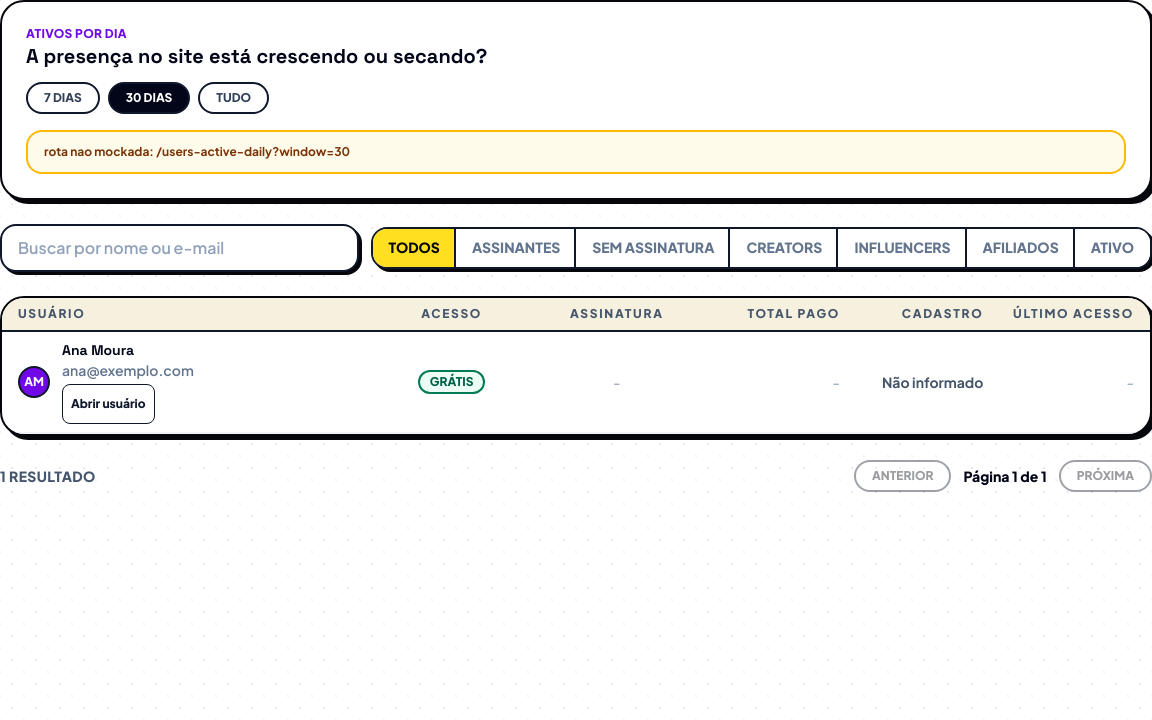
Scenario: UsersDashboard: modal de detalhe › Esc fecha o modal
This screenshot has width=1152, height=720.
Expected: the text "Ana Moura" is shown, [62,341,134,359]
Click the button "Abrir usuário" at (108, 404), box [62,384,154,424]
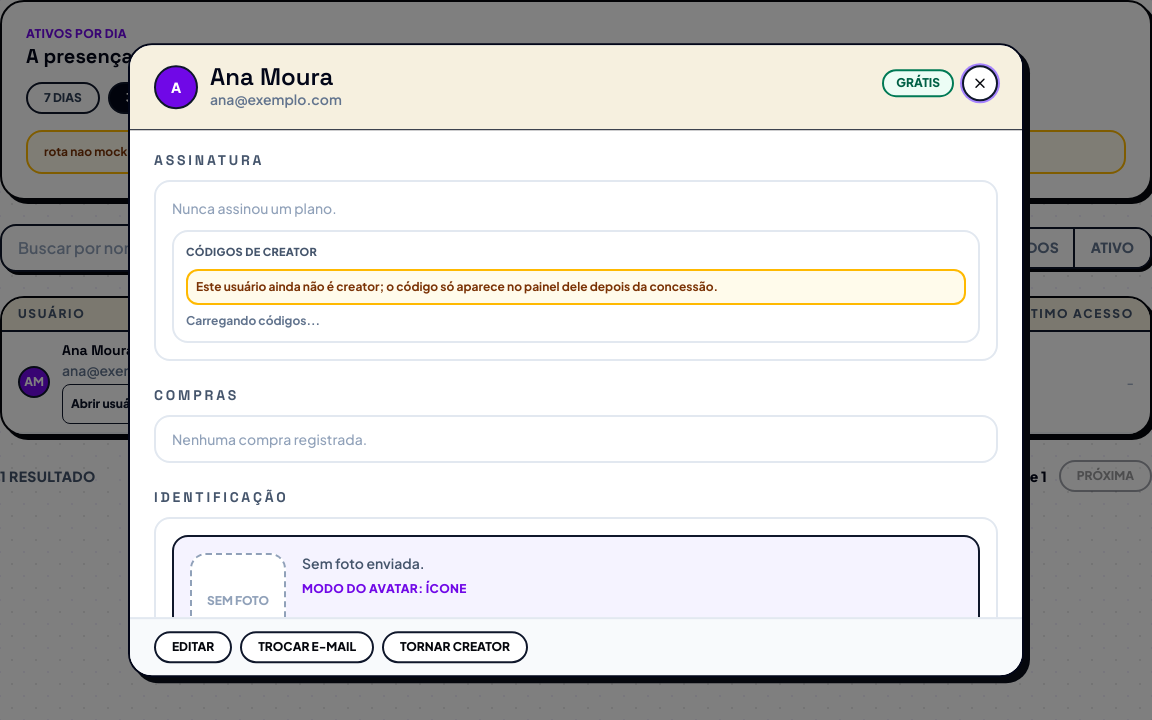
Press Escape in the button named "Fechar", box [962,65,998,101]
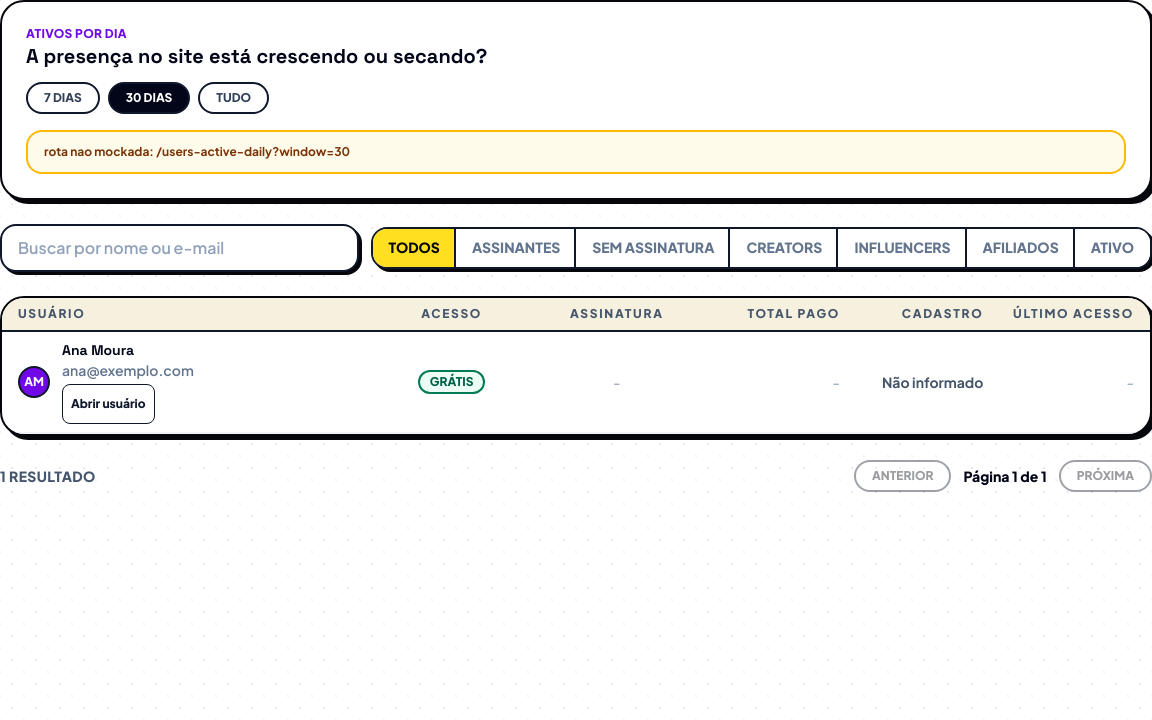
Expected: the dialog is gone
